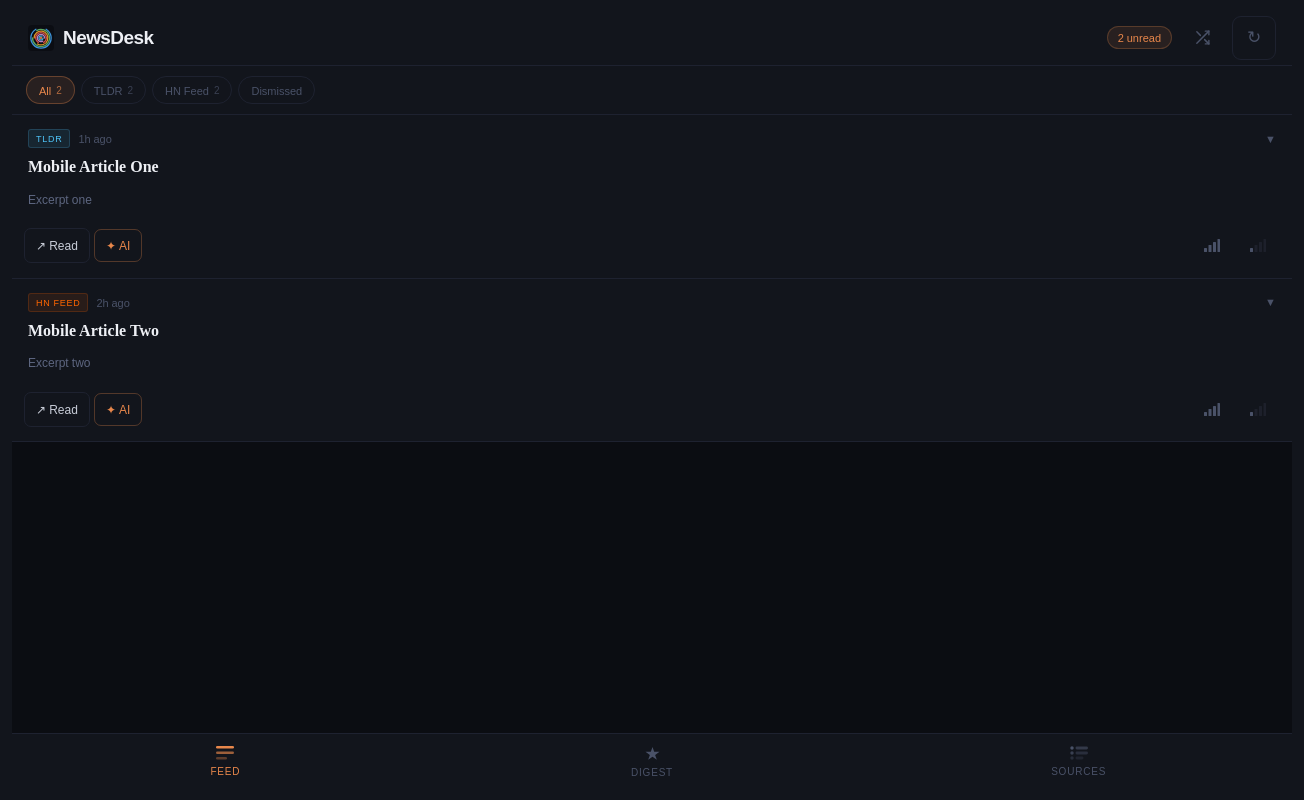
Scenario: MobileApp — sources tab › shows error indicator for sources with fetch errors
What coordinates should you click on to do the following:
click the button "Sources"
I would click on:
 (1079, 762)
Its box is [865,734,1292,790].
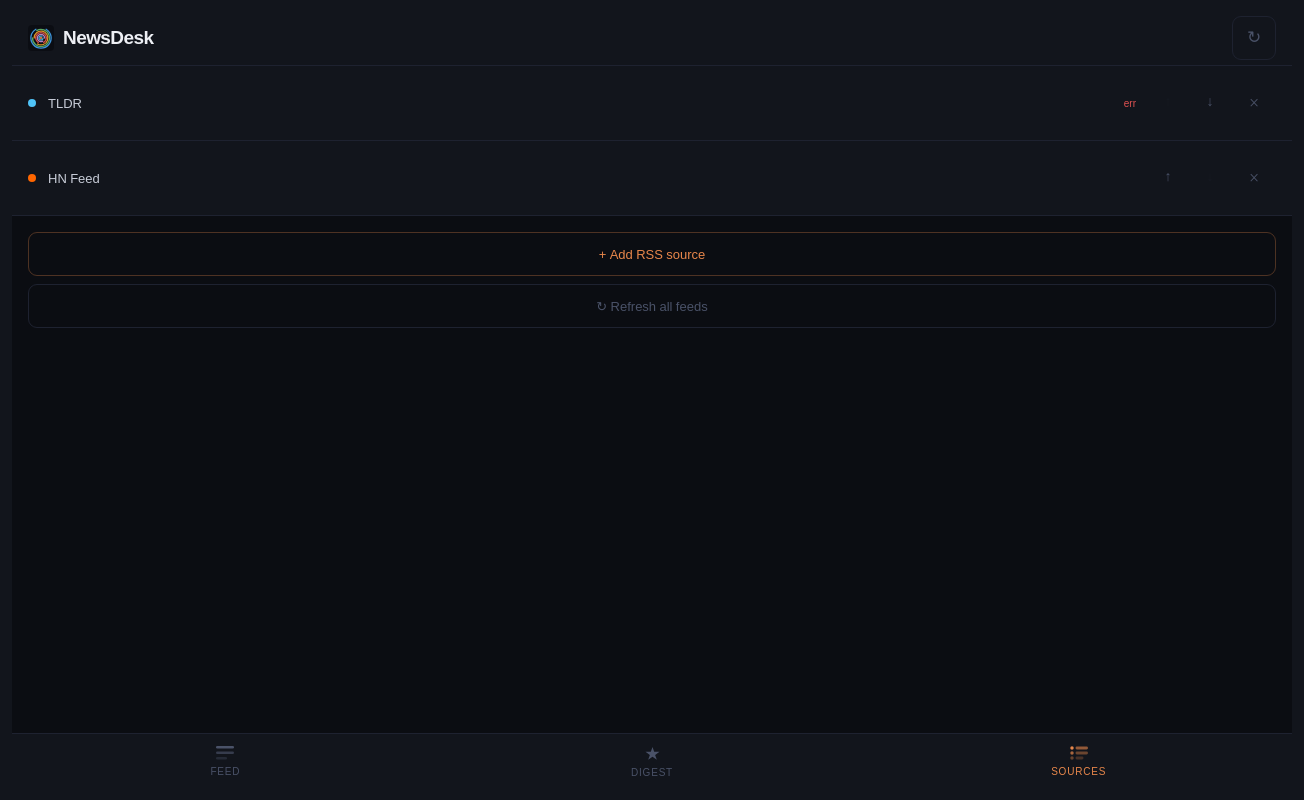
Result: the text "err" is shown at [1124,96,1136,110]
